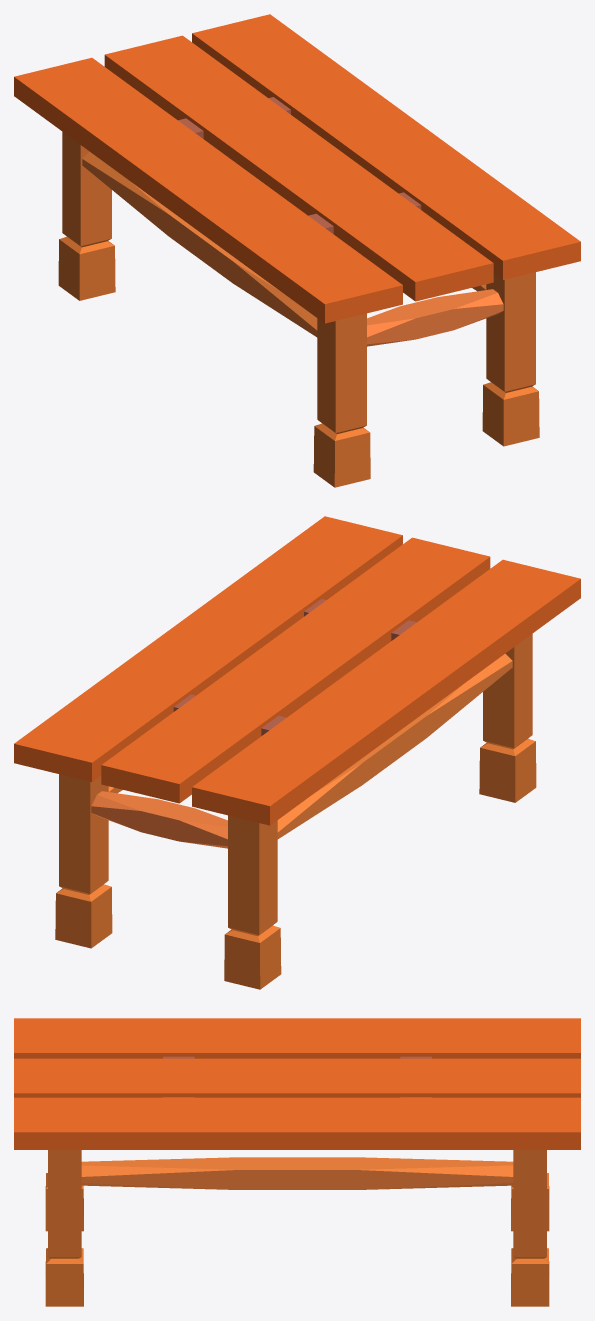
File: stalas.fbx
3 views of the same model, one above another, from view 1: azimuth 30°, elevation 25°; view 2: azimuth 150°, elevation 25°; view 3: azimuth 270°, elevation 25° (orthographic). The views are drawn at different scales.
Visible parts, largest first — view 1: Cube.002, Cube, Cube.001, Cube.004, Cube.006, Cube.007, Cube.005; view 2: Cube.002, Cube, Cube.001, Cube.004, Cube.006, Cube.007, Cube.005; view 3: Cube.001, Cube.002, Cube, Cube.006, Cube.004.
Part boxes in pixels (bbox=[...]): Cube.002: bbox=[14, 57, 402, 323]; Cube: bbox=[104, 35, 493, 301]; Cube.001: bbox=[192, 14, 580, 279]; Cube.004: bbox=[58, 132, 539, 487]; Cube.006: bbox=[82, 151, 486, 337]; Cube.007: bbox=[367, 289, 503, 346]; Cube.005: bbox=[178, 97, 421, 233]; Cube.002: bbox=[192, 559, 580, 825]; Cube: bbox=[101, 537, 490, 803]; Cube.001: bbox=[14, 516, 402, 781]; Cube.004: bbox=[55, 634, 536, 989]; Cube.006: bbox=[108, 653, 512, 839]; Cube.007: bbox=[91, 791, 227, 848]; Cube.005: bbox=[173, 599, 416, 735]; Cube.001: bbox=[14, 1097, 580, 1149]; Cube.002: bbox=[14, 1018, 580, 1058]; Cube: bbox=[14, 1058, 580, 1097]; Cube.006: bbox=[81, 1157, 513, 1189]; Cube.004: bbox=[45, 1150, 549, 1306].
Size of the model in its own units: 145 by 110 by 305.
